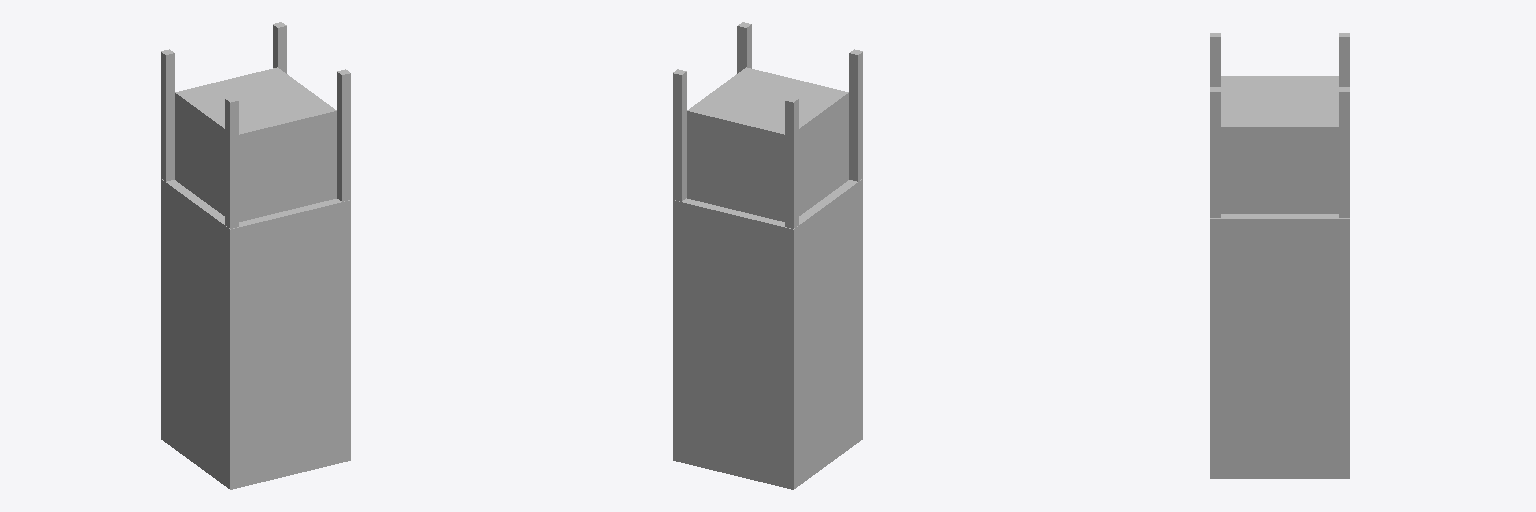
File: Tower.obj
3 views of the same model, side by side, from view 1: azimuth 30°, elevation 25°; view 2: azimuth 150°, elevation 25°; view 3: azimuth 270°, elevation 25° (orthographic).
Parts seen in each view (by area): view 1: Cube.006, Cube.003, Cube, Cube.005, Cube.008, Cube.007, Cube.004; view 2: Cube.006, Cube.003, Cube, Cube.004, Cube.008, Cube.007, Cube.005; view 3: Cube.006, Cube.003, Cube.004, Cube.005, Cube.008, Cube.007.
Part boxes in pixels (left/top/right/bottom): Cube.006: left=161, top=179, right=350, bottom=489; Cube.003: left=175, top=67, right=336, bottom=221; Cube: left=161, top=179, right=349, bottom=486; Cube.005: left=337, top=69, right=350, bottom=201; Cube.008: left=161, top=49, right=174, bottom=181; Cube.007: left=225, top=97, right=238, bottom=228; Cube.004: left=273, top=22, right=286, bottom=73; Cube.006: left=673, top=179, right=862, bottom=489; Cube.003: left=687, top=67, right=848, bottom=221; Cube: left=675, top=180, right=862, bottom=488; Cube.004: left=673, top=69, right=686, bottom=201; Cube.008: left=785, top=97, right=798, bottom=228; Cube.007: left=849, top=49, right=862, bottom=181; Cube.005: left=737, top=22, right=751, bottom=73; Cube.006: left=1210, top=214, right=1349, bottom=478; Cube.003: left=1221, top=76, right=1338, bottom=213; Cube.004: left=1339, top=87, right=1349, bottom=217; Cube.005: left=1210, top=87, right=1220, bottom=217; Cube.008: left=1339, top=33, right=1349, bottom=86; Cube.007: left=1210, top=33, right=1220, bottom=86.
Size of the model in its own units: 2 by 6.12 by 2.